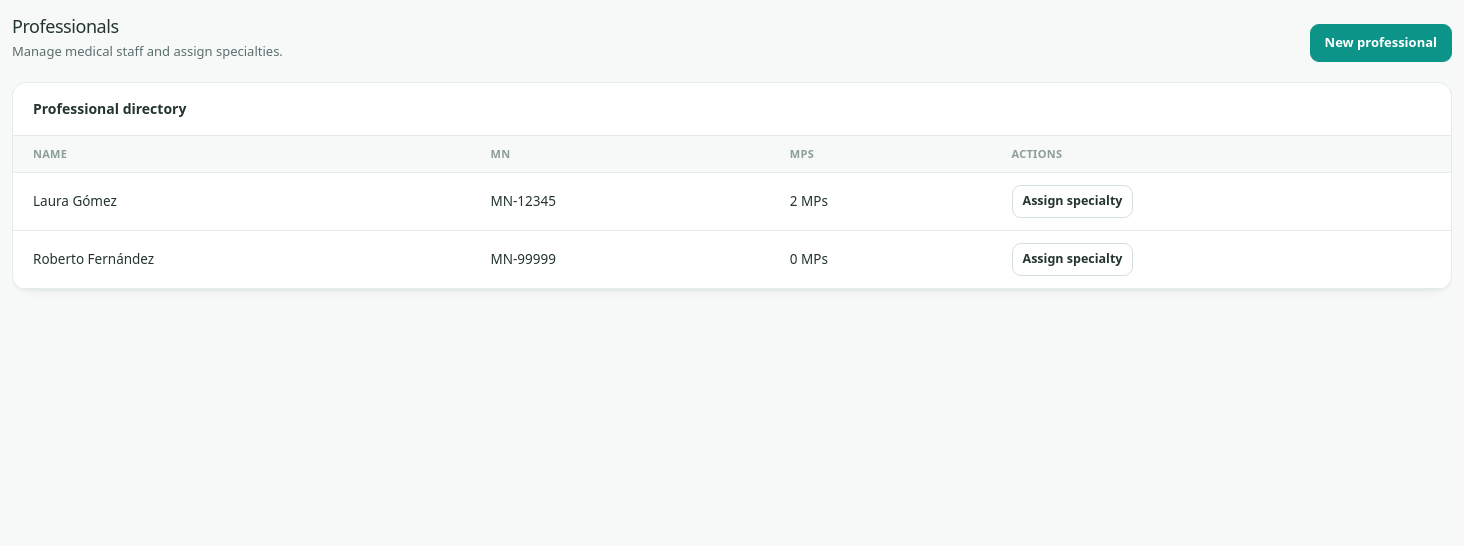
it: ProfessionalsPage › shows an error when the specialty assignment fails
This screenshot has width=1464, height=546.
Expected: the text "Laura Gómez" is shown, top-left (13, 172), bottom-right (470, 230)
Click the button "Assign specialty" in the row of "Laura Gómez" at [1072, 201], box top-left (1012, 185), bottom-right (1133, 218)
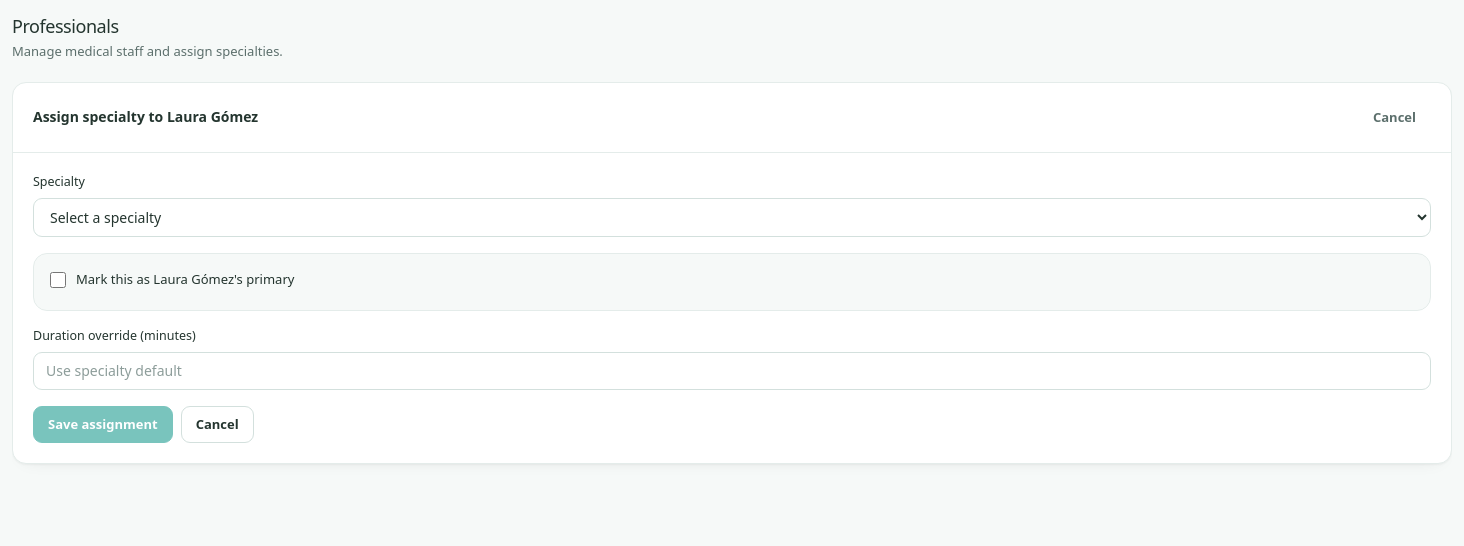
Select "Cardiología" in the dropdown labelled "Specialty" at [732, 217], box top-left (33, 198), bottom-right (1431, 237)
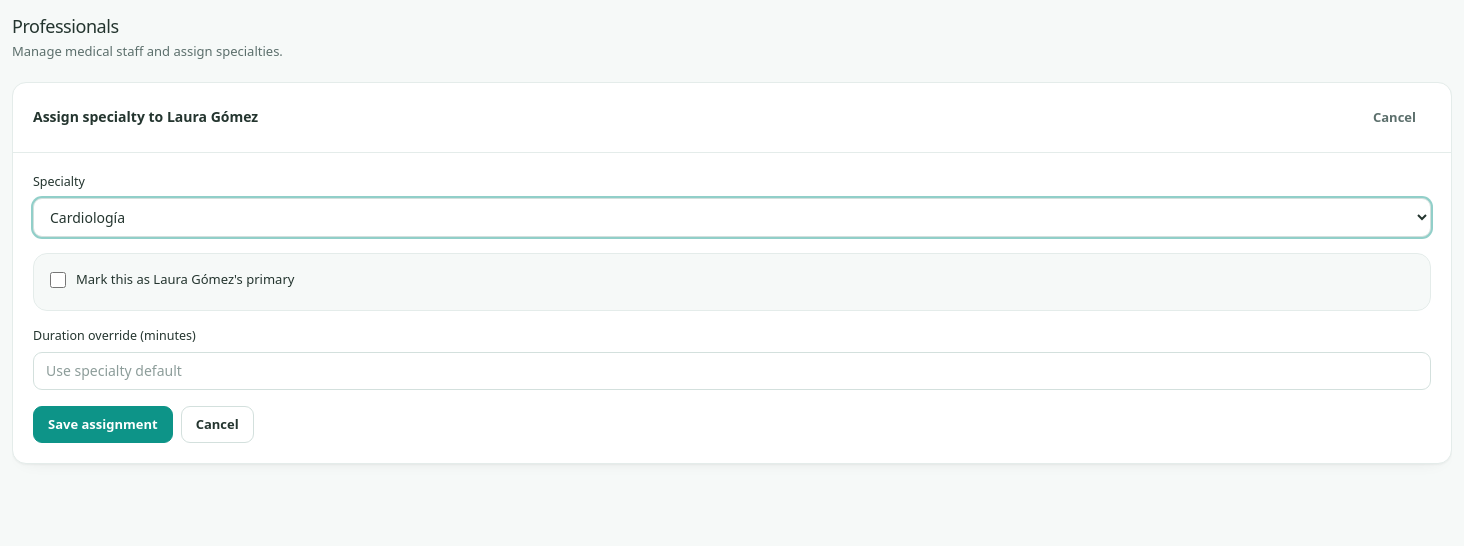
Click the button "Save assignment" at [103, 424], box top-left (33, 406), bottom-right (173, 443)
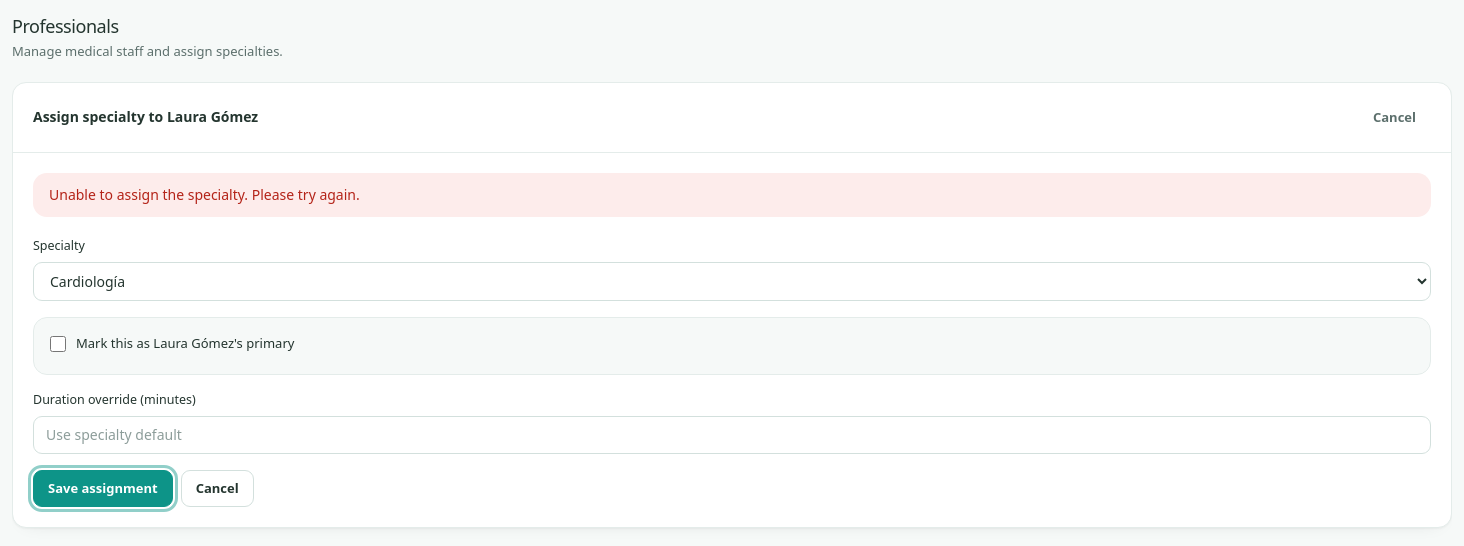
Expected: the message shows "Unable to assign the specialty", top-left (49, 185), bottom-right (360, 204)
